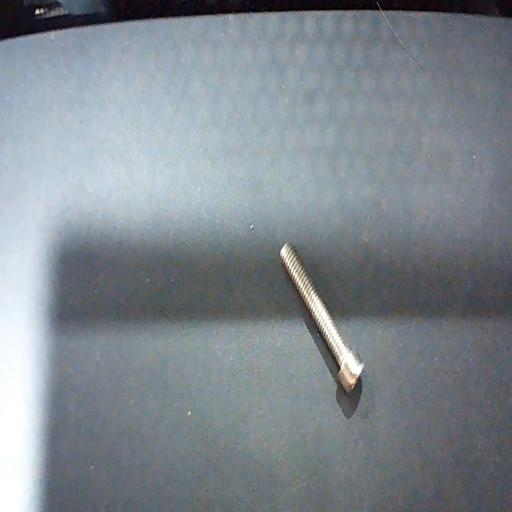screw: (279, 242, 363, 394)
